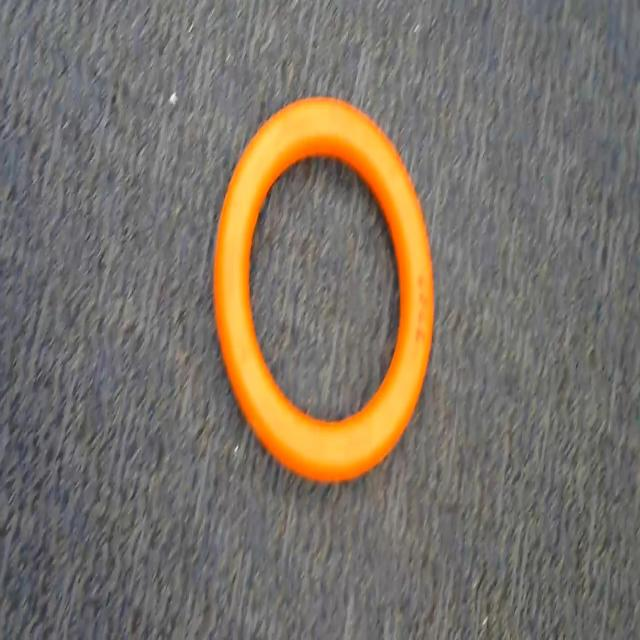note: (193, 82, 452, 508)
